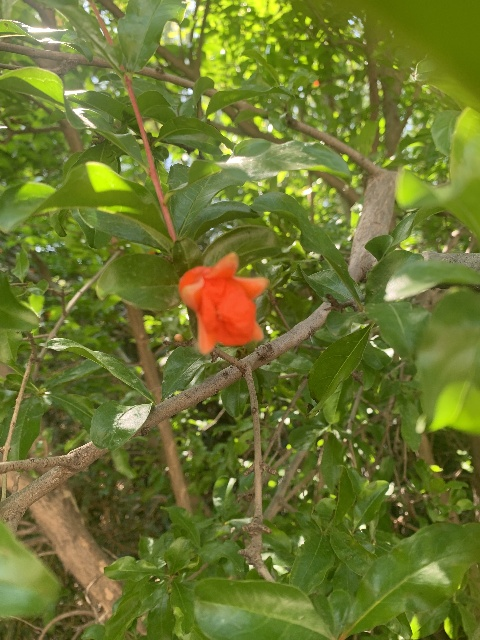flower: (179, 252, 269, 354)
